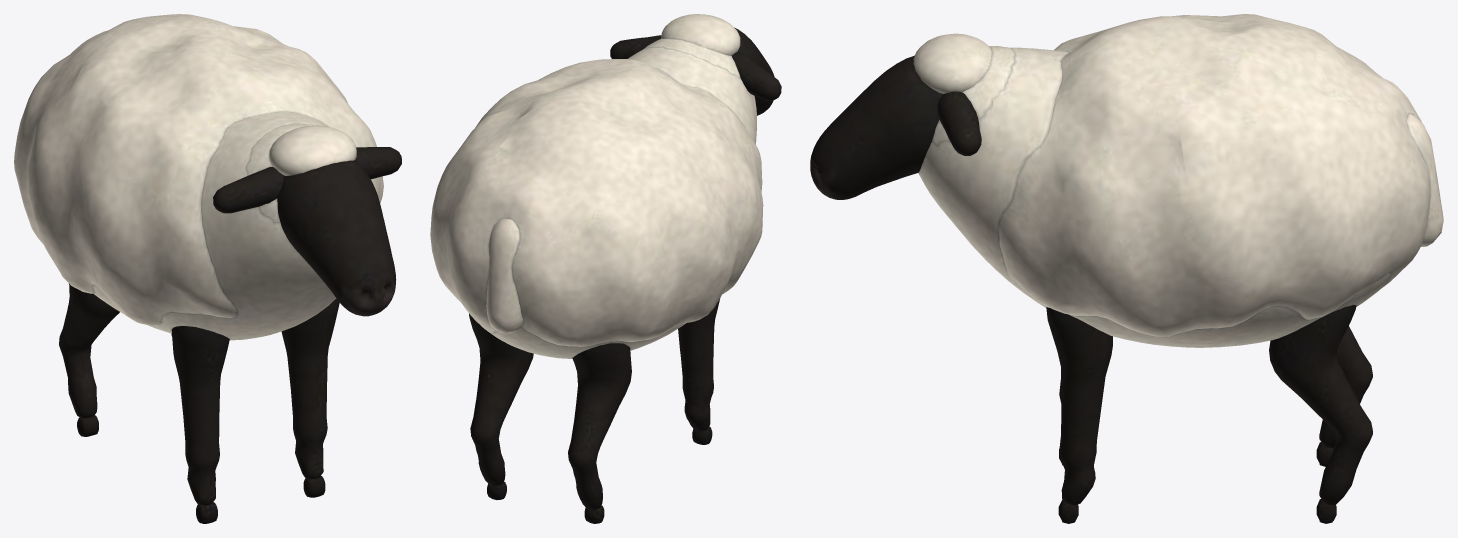
File: animal_suffolk_sheep.glb
The picture shows the model from 3 angles, left to right: view 1: azimuth 30°, elevation 25°; view 2: azimuth 150°, elevation 25°; view 3: azimuth 270°, elevation 25°; orthographic projection. The views are drawn at different scales.
Parts seen in each view (by area): view 1: animal_suffolk_sheep, head, leg0, leg1, leg2; view 2: animal_suffolk_sheep, leg2, leg3, head, leg0, tail; view 3: animal_suffolk_sheep, head, leg3, leg1, leg2, tail.
Part boxes in pixels (left/top/right/bottom): animal_suffolk_sheep: left=14, top=14, right=383, bottom=340; head: left=213, top=125, right=401, bottom=316; leg0: left=171, top=326, right=229, bottom=523; leg1: left=281, top=298, right=339, bottom=497; leg2: left=59, top=283, right=119, bottom=436; animal_suffolk_sheep: left=430, top=38, right=763, bottom=358; leg2: left=568, top=343, right=631, bottom=523; leg3: left=469, top=313, right=533, bottom=499; head: left=610, top=14, right=781, bottom=115; leg0: left=678, top=298, right=720, bottom=444; tail: left=486, top=218, right=522, bottom=333; animal_suffolk_sheep: left=918, top=14, right=1430, bottom=347; head: left=810, top=33, right=992, bottom=199; leg3: left=1269, top=305, right=1372, bottom=523; leg1: left=1046, top=307, right=1112, bottom=523; leg2: left=1316, top=326, right=1372, bottom=466; tail: left=1407, top=114, right=1443, bottom=246.
Bounding box in the file's own units: 0.329 × 0.4527 × 0.5583.
Materials: 1 (1 with a texture image).
